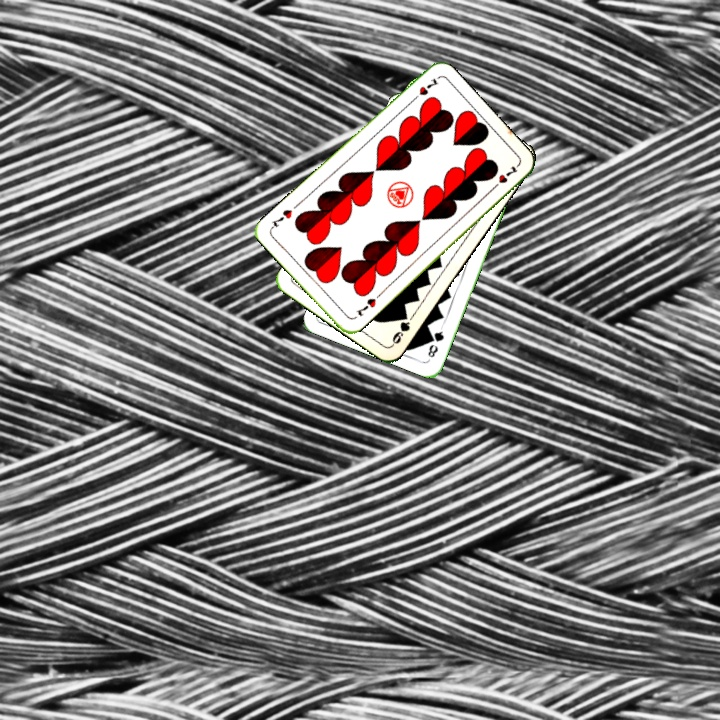G8: (424, 323, 446, 360)
G9: (388, 309, 413, 348)
H7: (407, 73, 441, 105), (352, 294, 378, 319)
